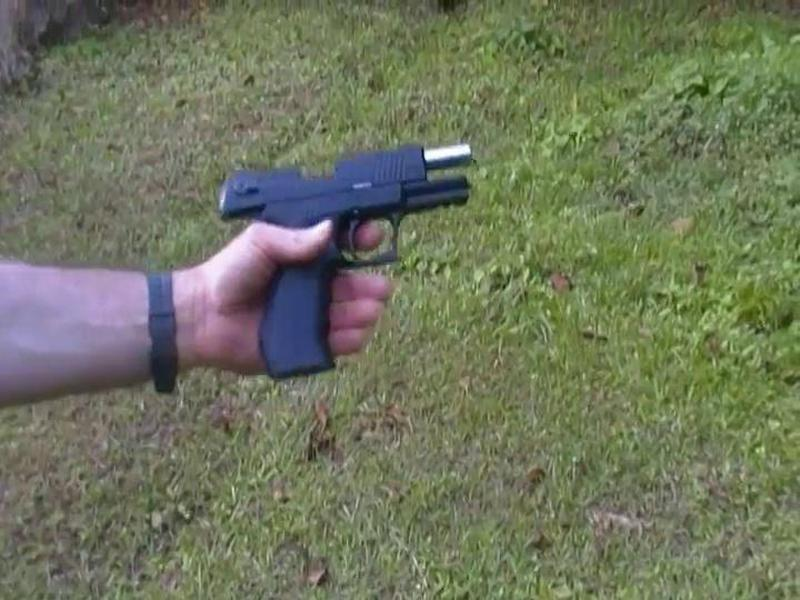Pistola: (200, 126, 494, 391)
